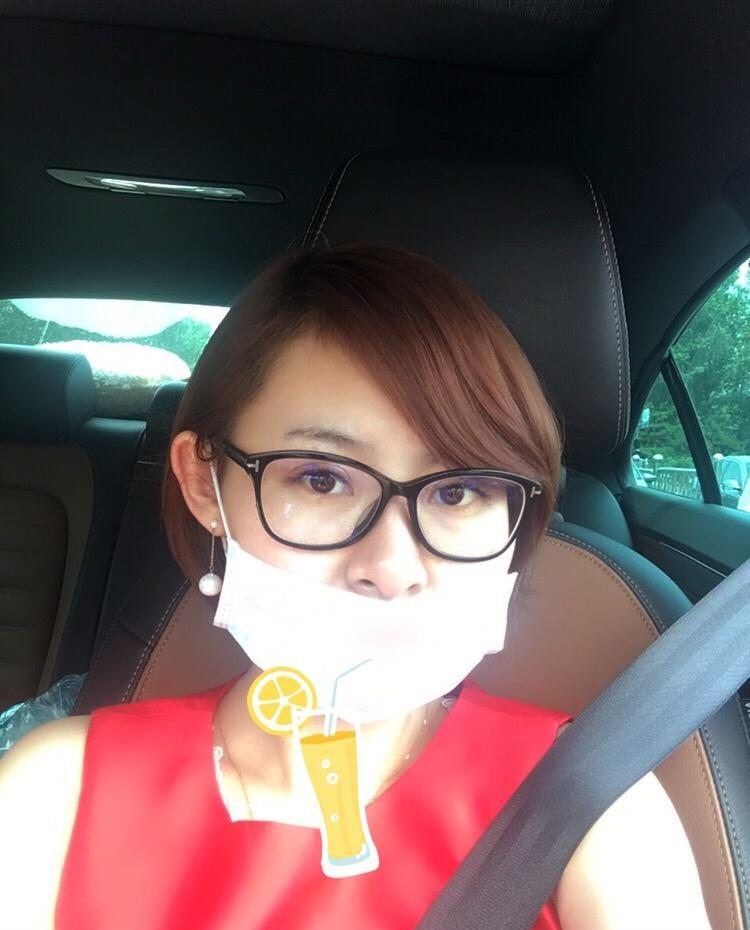WRONG: (197, 411, 516, 730)
